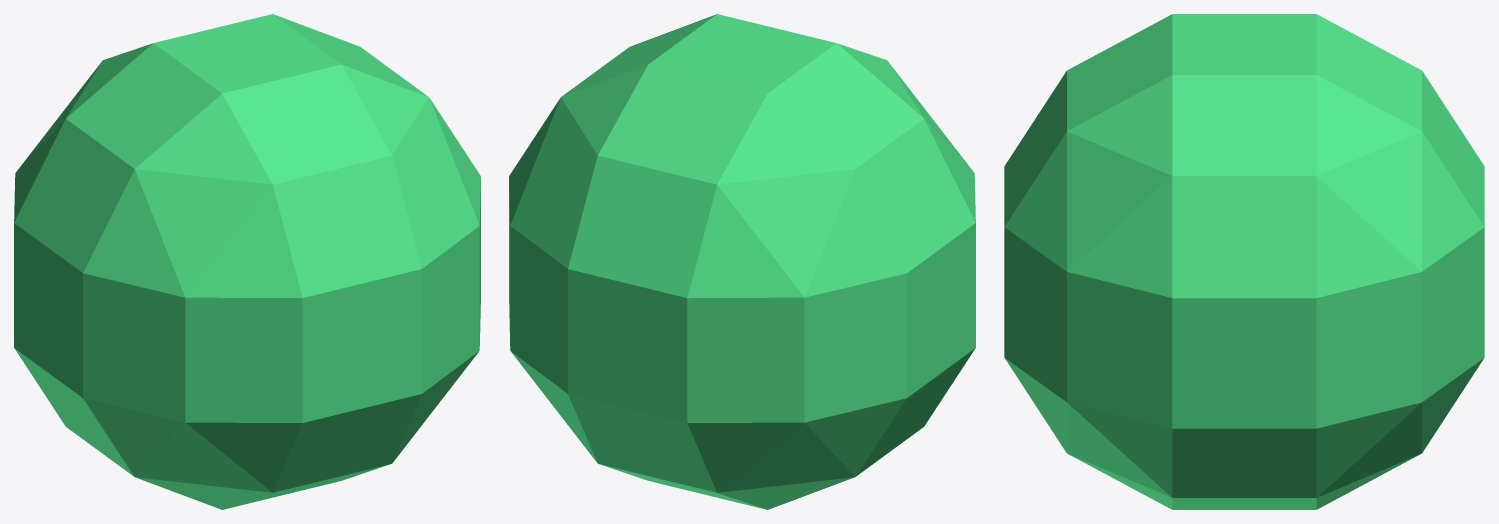
Rendered from bullet.FBX.
3 views of the same model, side by side, from view 1: azimuth 30°, elevation 25°; view 2: azimuth 150°, elevation 25°; view 3: azimuth 270°, elevation 25° (orthographic). The views are drawn at different scales.
Parts seen in each view (by area): view 1: VIFS001; view 2: VIFS001; view 3: VIFS001.
Boxes of the visible parts, <box> form: VIFS001: <box>14,14,480,509</box>; VIFS001: <box>509,14,975,509</box>; VIFS001: <box>1004,14,1484,509</box>.
Bounding box in the file's own units: 0.4 × 0.4 × 0.4.
